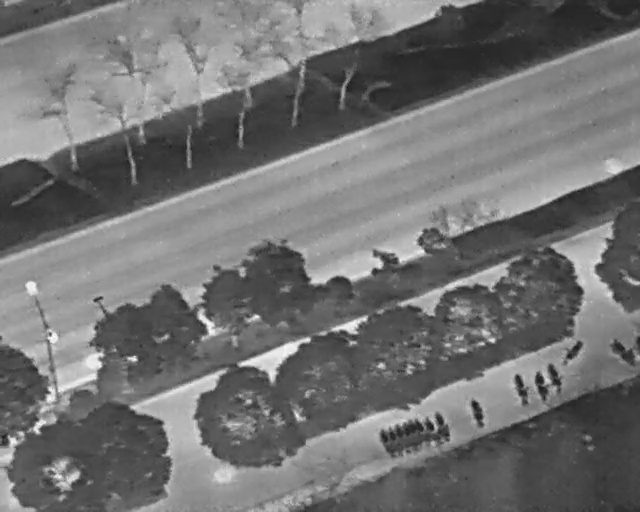Bicycle: (604, 334, 639, 368), (431, 408, 455, 444), (558, 337, 585, 369), (466, 395, 489, 428), (511, 371, 532, 406), (530, 368, 551, 403), (543, 361, 564, 396), (376, 427, 397, 459), (382, 423, 403, 455), (390, 421, 411, 453), (395, 420, 416, 452), (401, 417, 422, 449), (408, 416, 429, 448), (420, 414, 441, 446)
